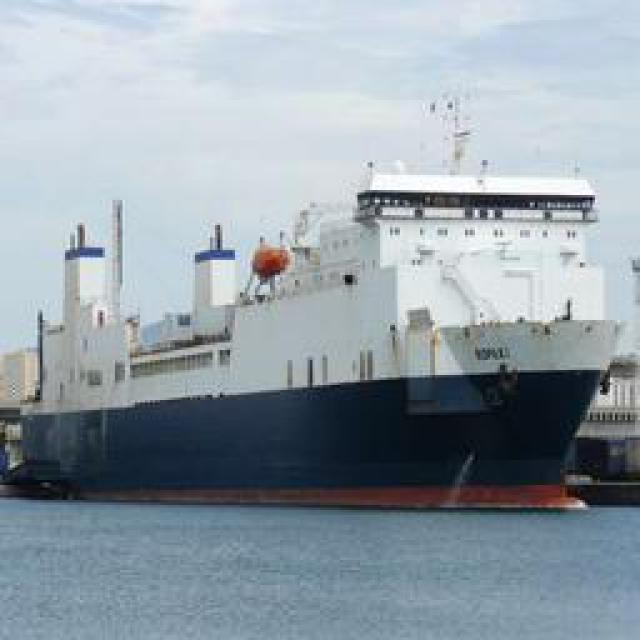Ship: (19, 141, 624, 509)
